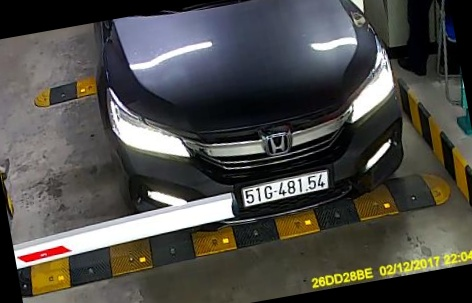plate: (238, 169, 333, 213)
